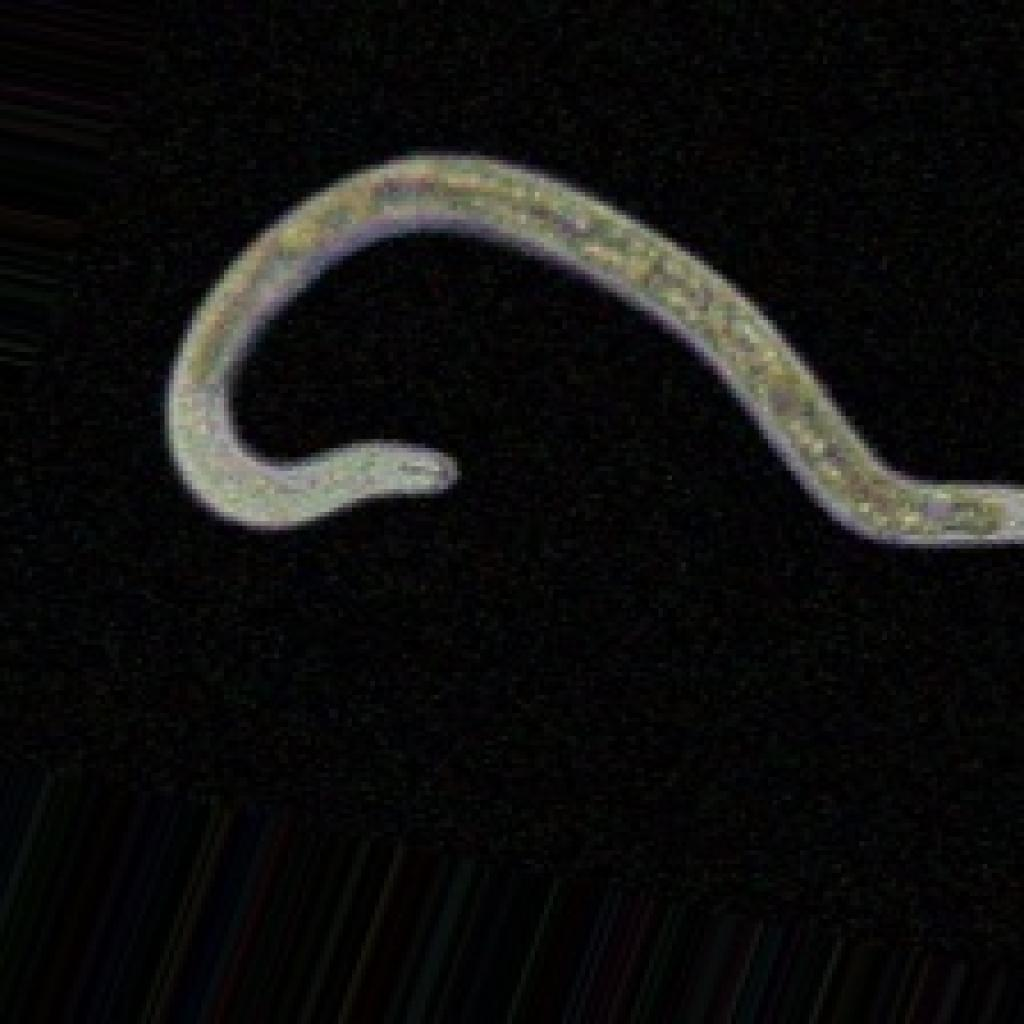Nematode: (0, 0, 1019, 1019), (156, 142, 1020, 562)
